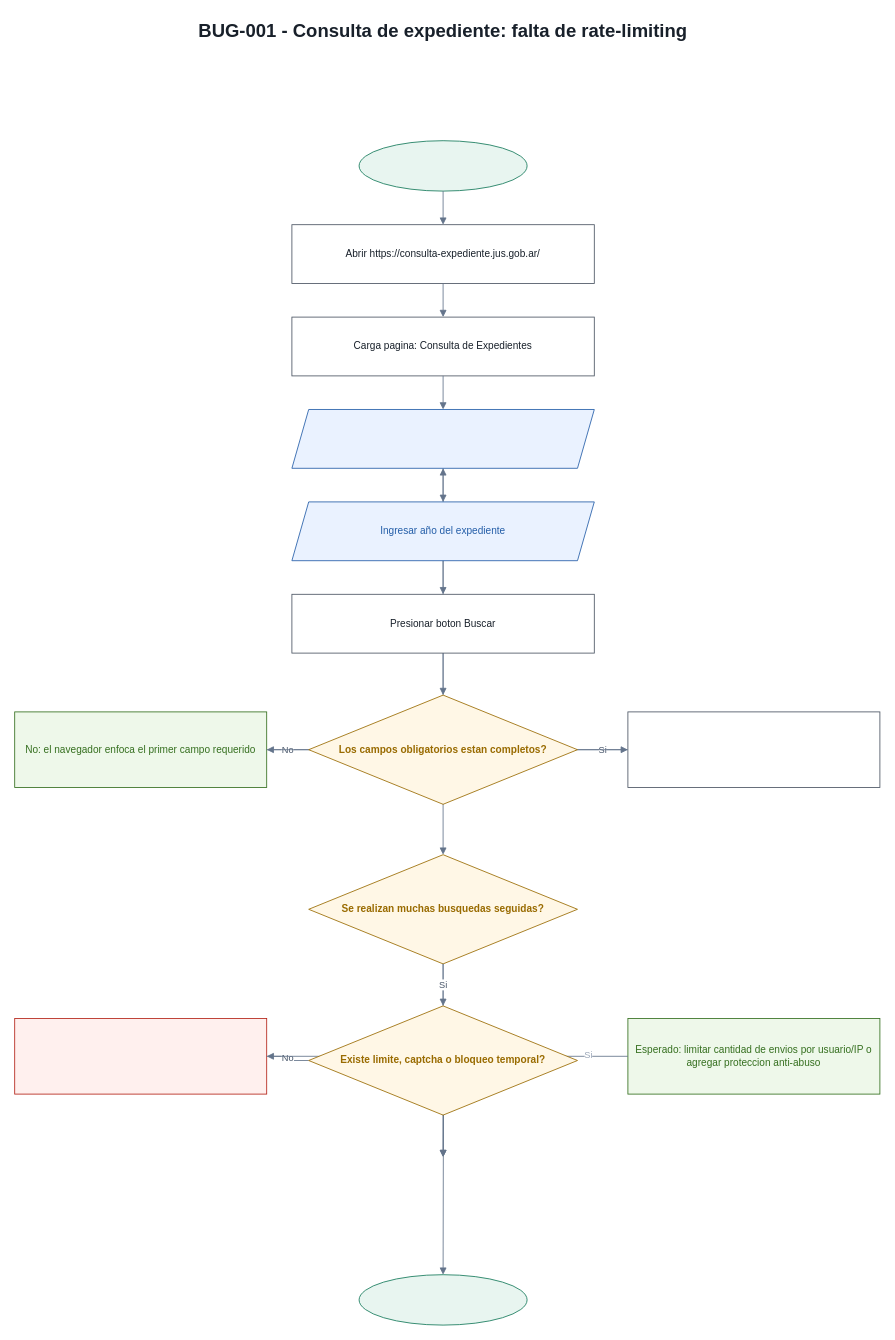
This 895x1340 diagram has some shape labels left out. The shapes that lost their labels are listed below. From the top down, each one's box as (x1, y1, x2, y2) in pixels, then its label:
(358, 140, 527, 191): Inicio
(291, 409, 594, 468): Ingresar numero de expediente
(627, 711, 880, 788): Si: el sistema procesa la consulta de expediente
(14, 1018, 267, 1094): BUG-001: no hay rate-limiting visible para limitar abuso del formulario
(358, 1274, 527, 1325): Fin
